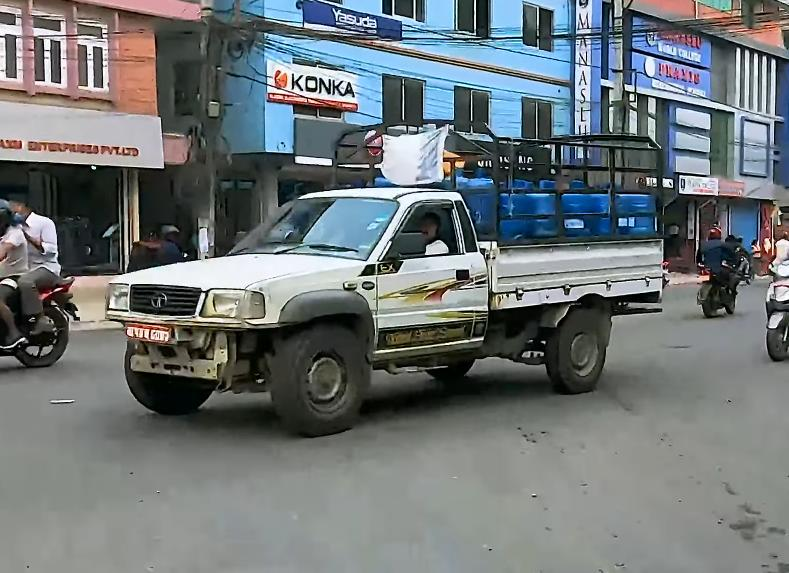bike: (0, 178, 89, 383), (688, 235, 743, 329)
scooter: (758, 218, 789, 370)
transport_vehicle: (100, 99, 679, 419)
